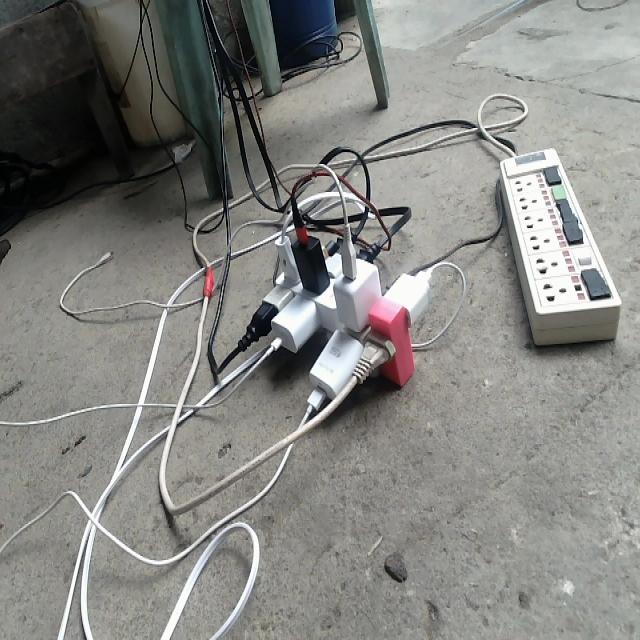-: (232, 183, 431, 416)
